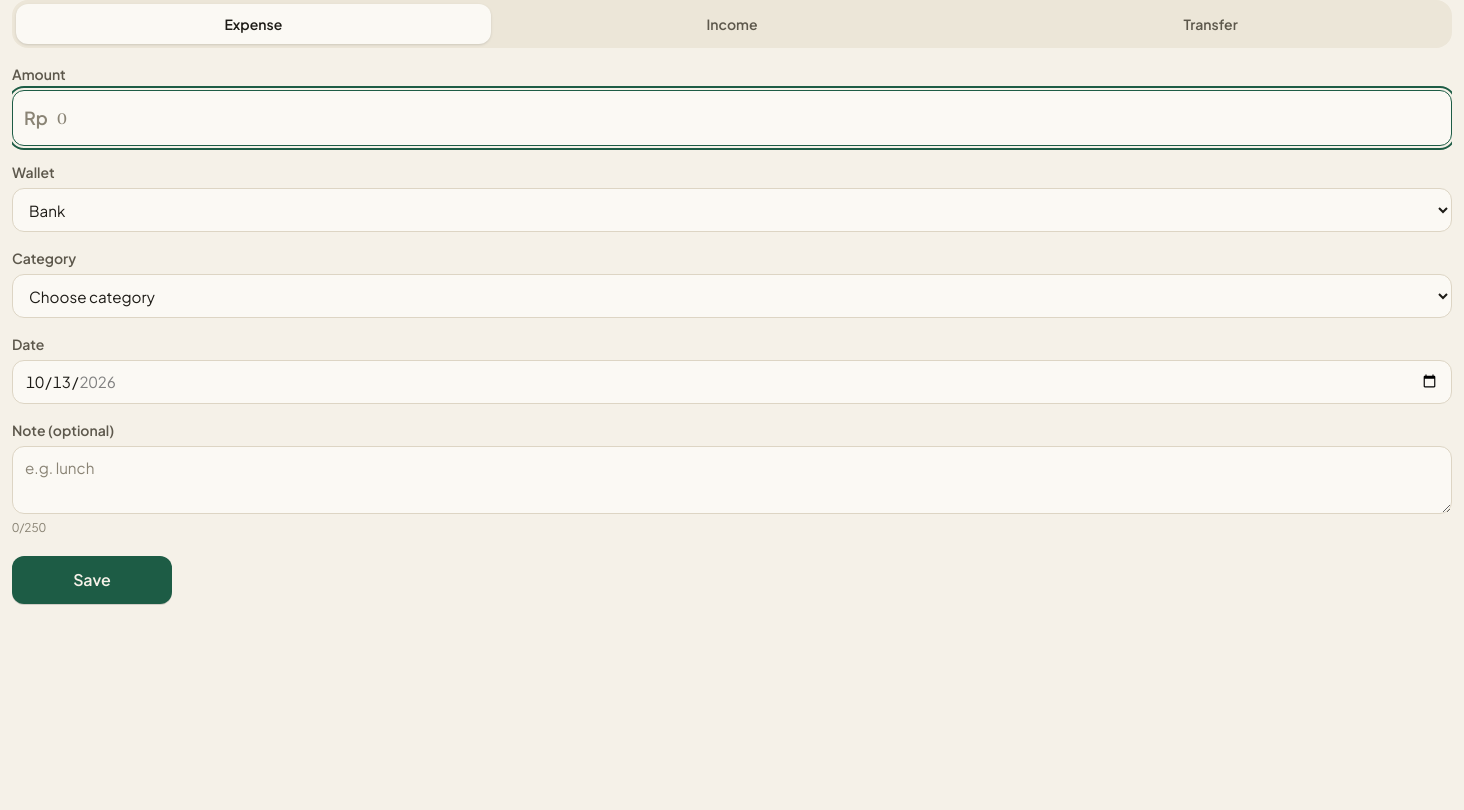
Test case: TransactionForm › renders labels and validation messages in the chosen language
Expected: the dropdown labelled "Wallet" is shown, [12,188,1452,232]
Click the button "Save": (92,580) [12,556,172,604]
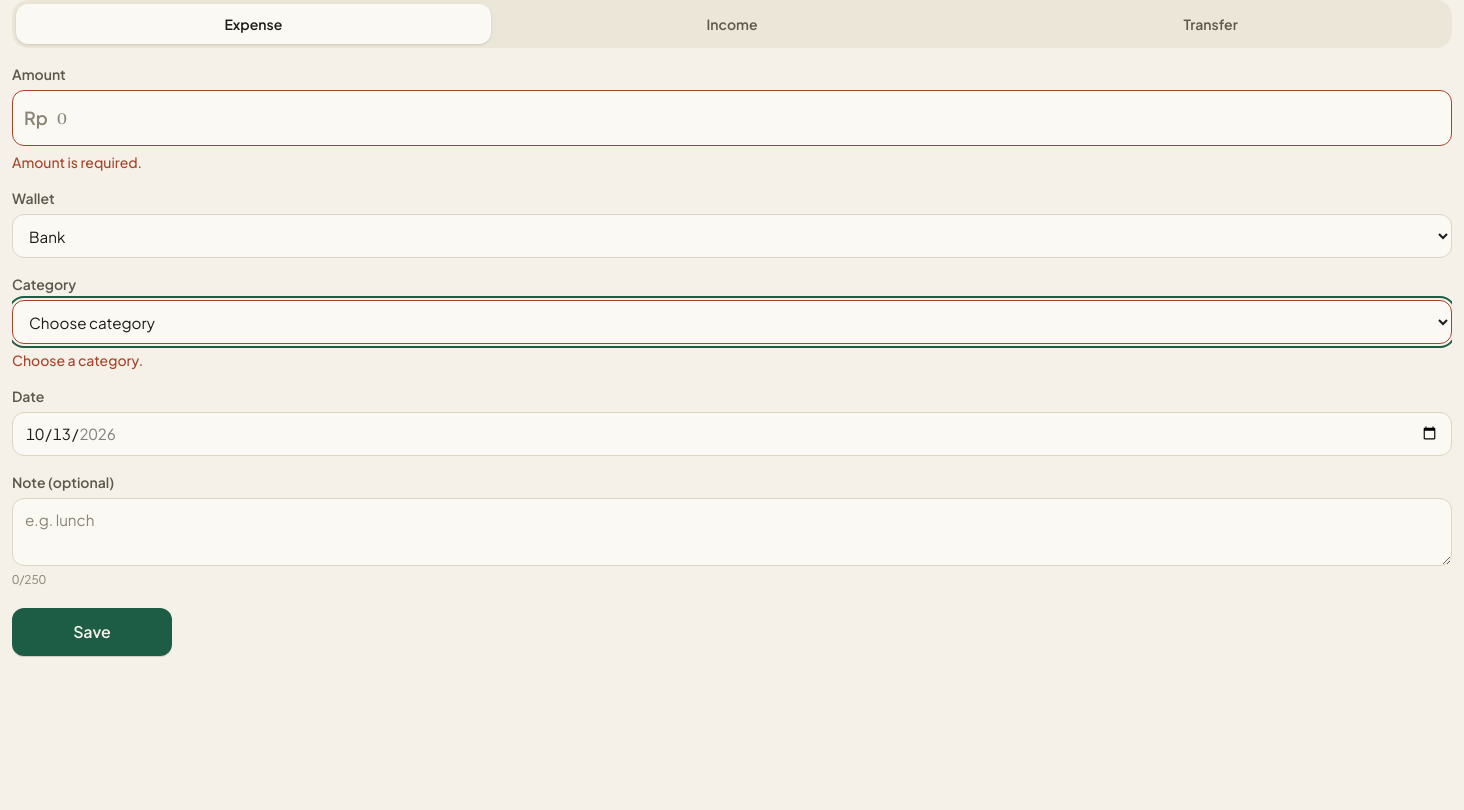
Now the text "Amount is required." is shown, box [12,153,142,171]
Now the text "Choose a category." is shown, box [12,351,143,369]
